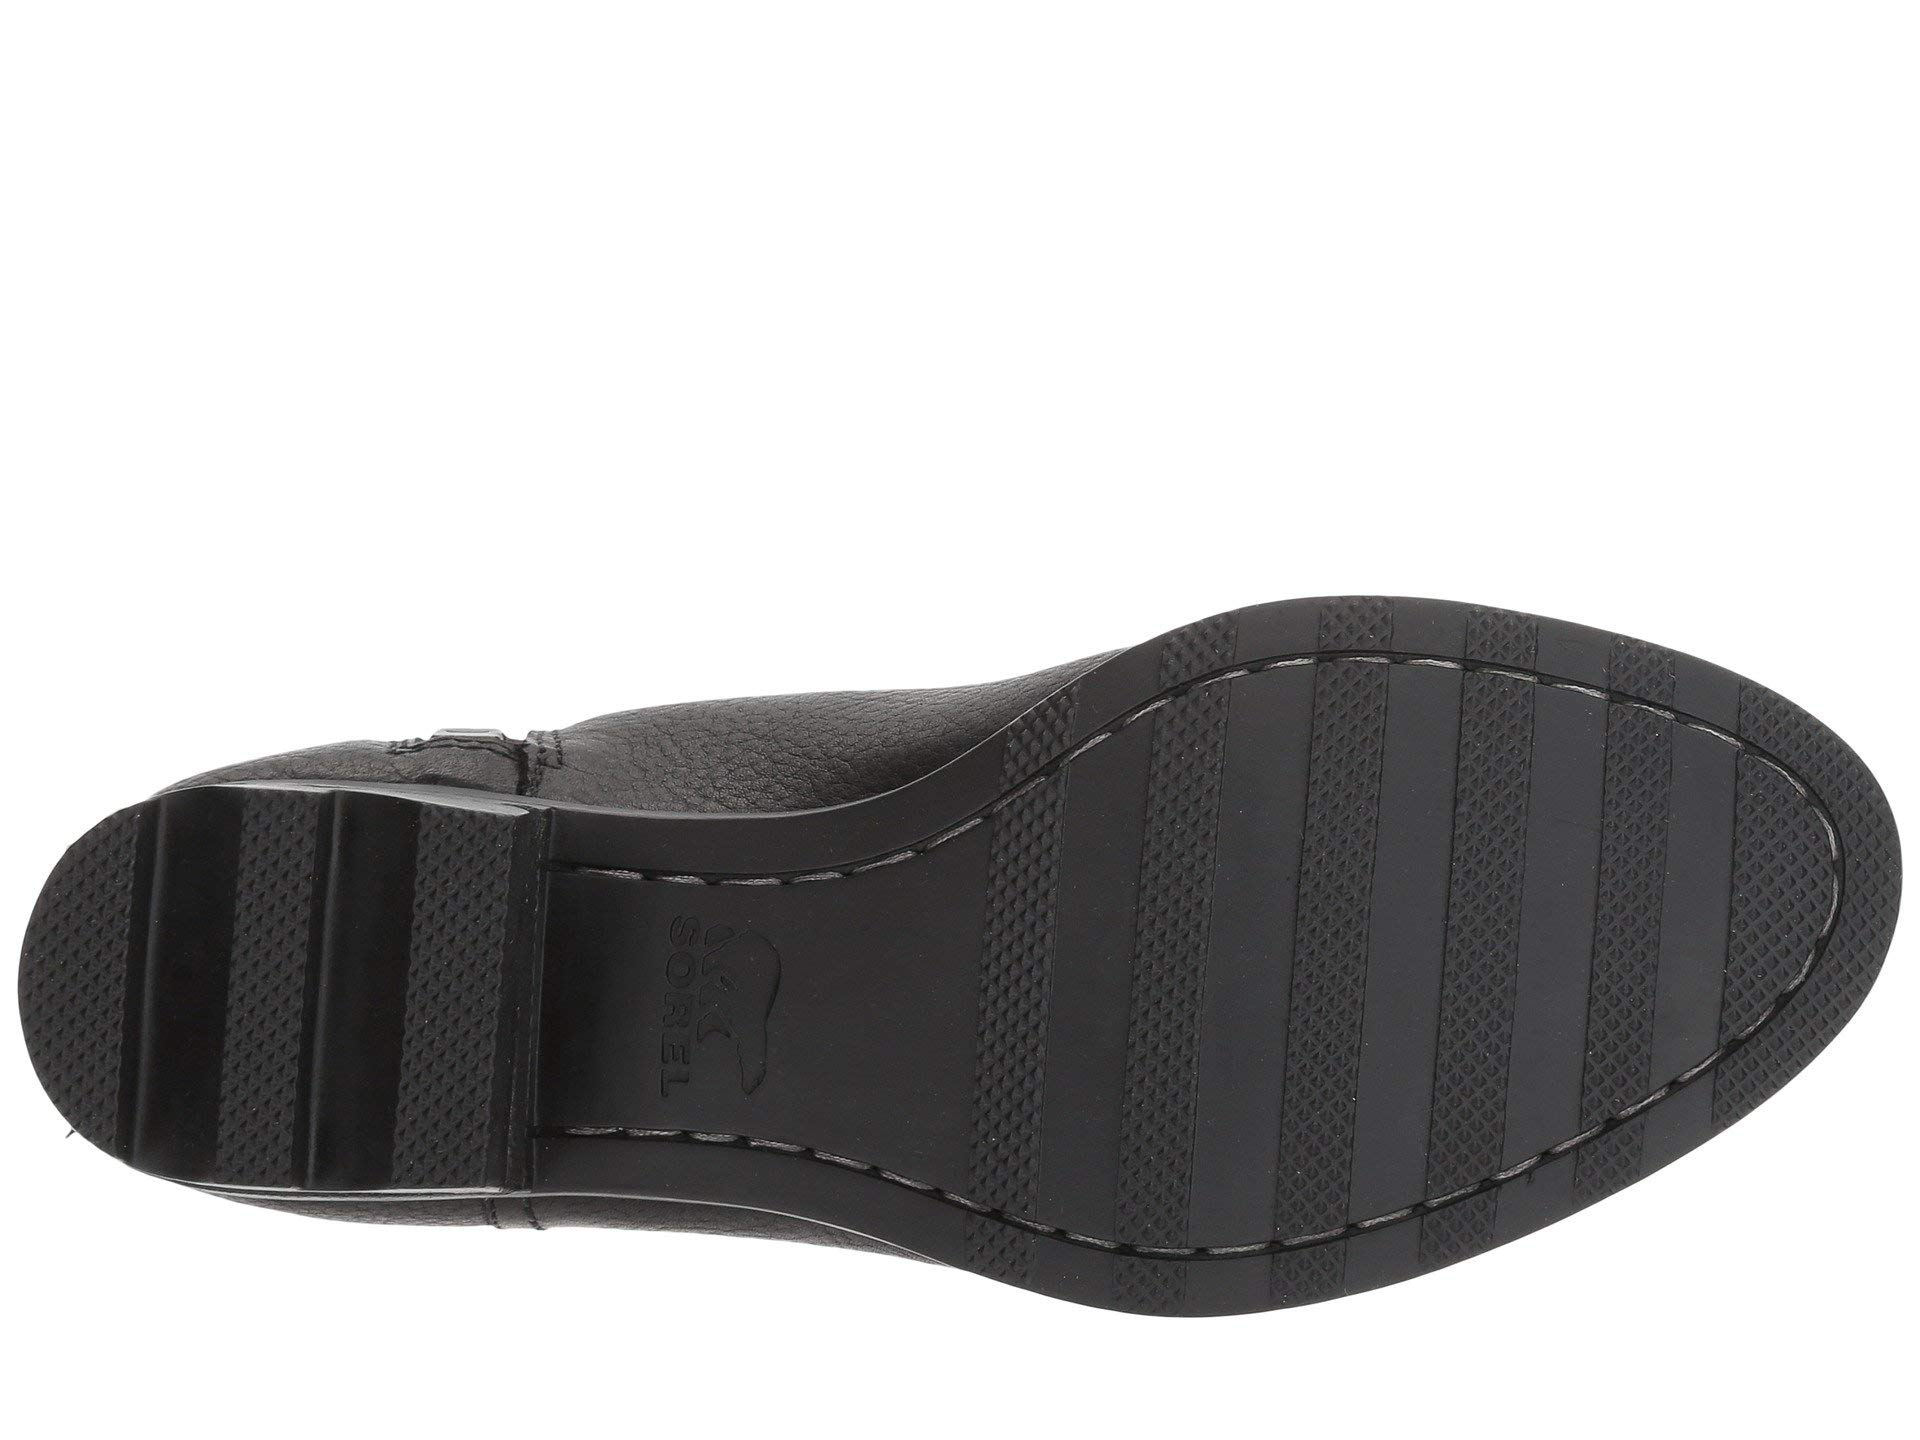line: (1104, 594, 1745, 1316)
quad: (1104, 594, 1745, 1316), (133, 791, 508, 1189)
